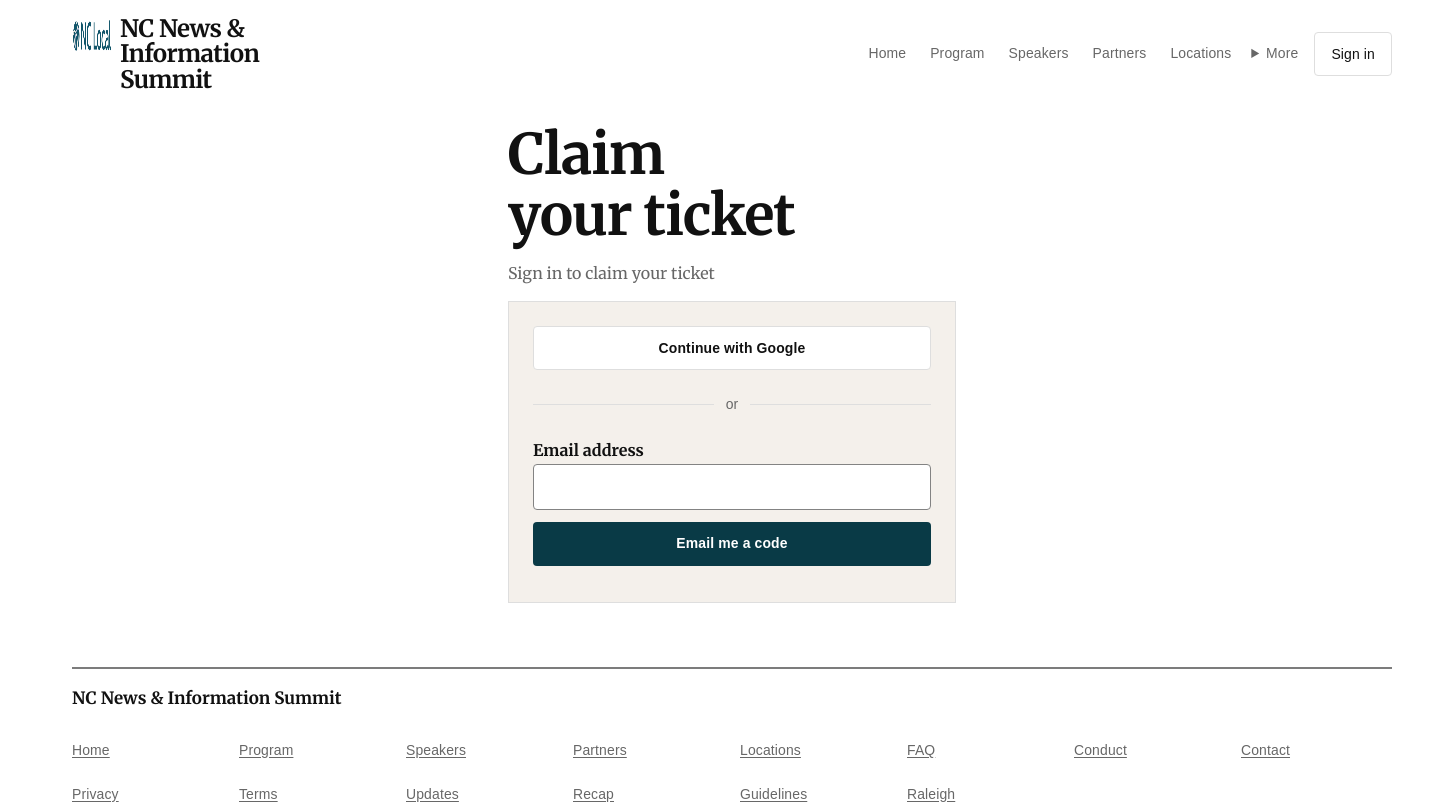
Test: signed out › keeps a failed sign-in on the claim link without disclosing or claiming an order
This screenshot has width=1452, height=810.
Type "ada@example.org" into the field labelled "Email address" at [732, 487], box [533,464,931,510]
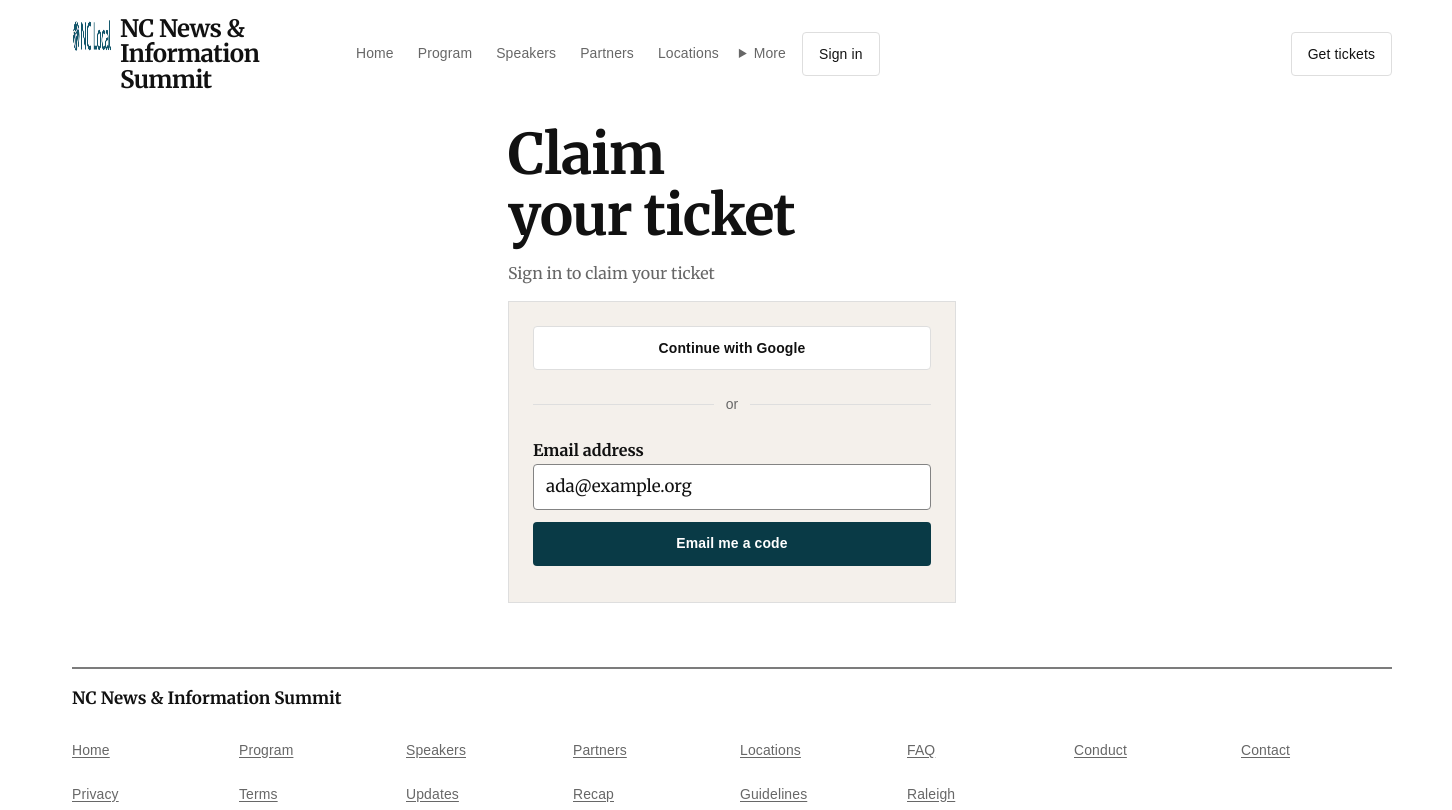
Click the button "Email me a code" at [732, 544], box [533,522,931,566]
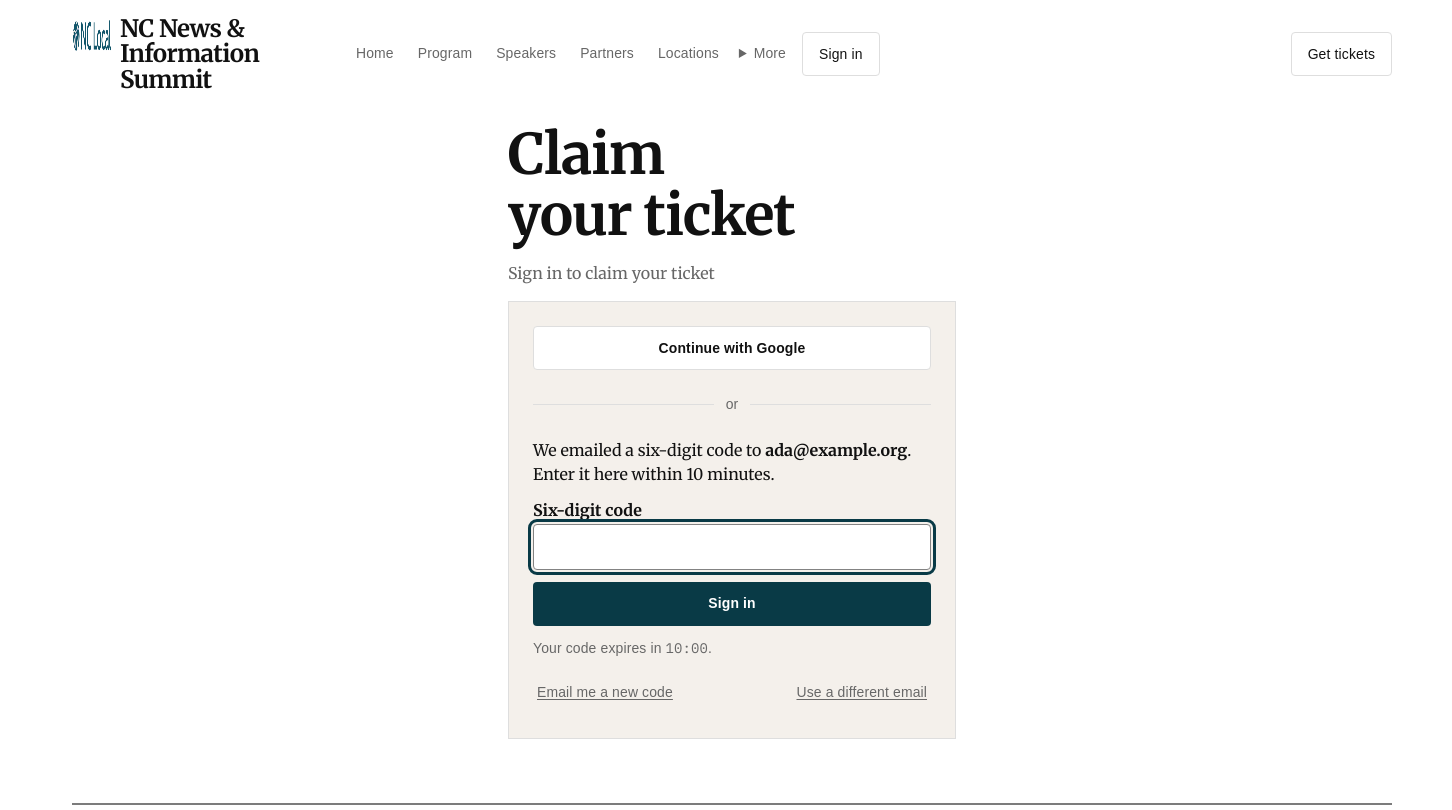
Type "123456" into the field labelled "Six-digit code" at [732, 547], box [533,524,931,570]
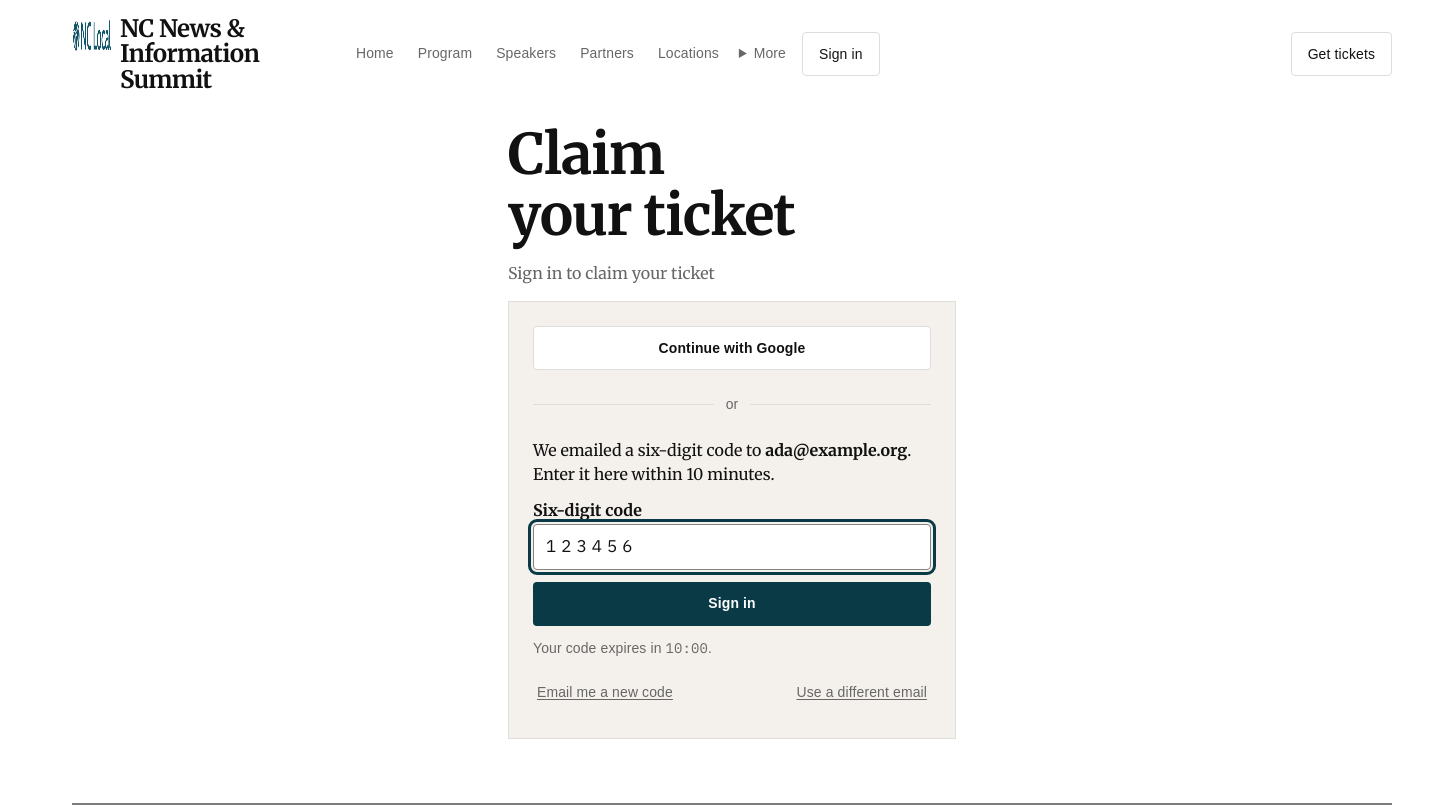
Click the button "Sign in" at [732, 604], box [533,582,931,626]
(page scrolled)
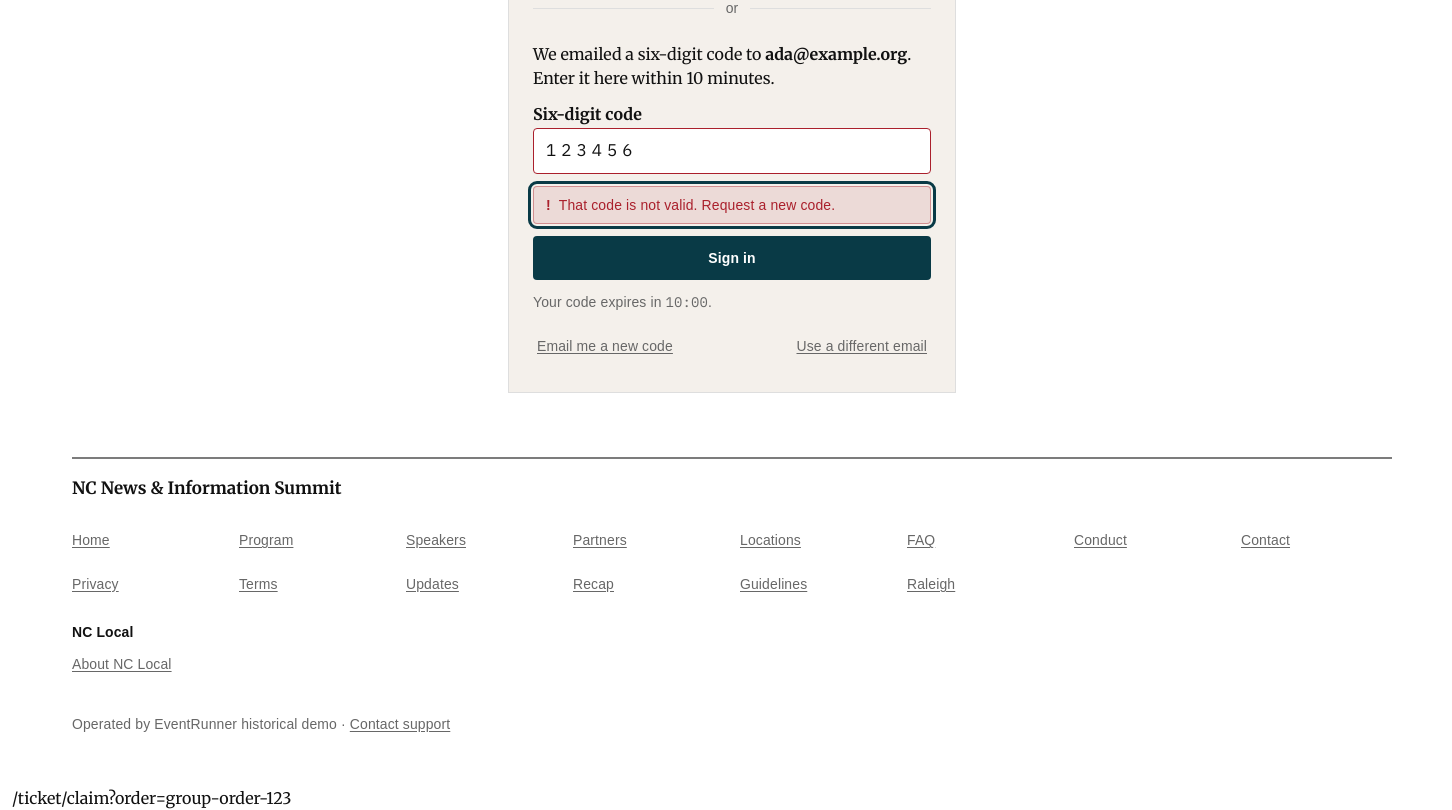
expect the text with test id "current-route" reads "/ticket/claim?order=group-order-123": met, box [12,788,291,808]
expect the text "That code is not valid. Request a new code." is shown: met, box [559,195,835,215]
